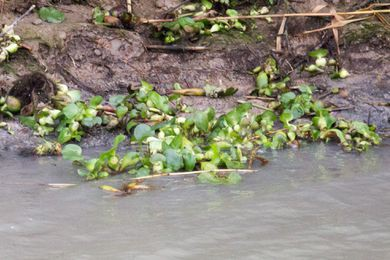water_hyacinth: (34, 84, 382, 179)
